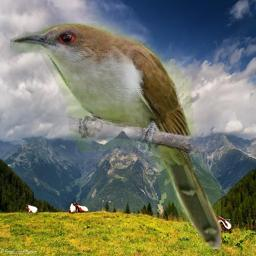Cuckoo: (10, 23, 221, 249)
